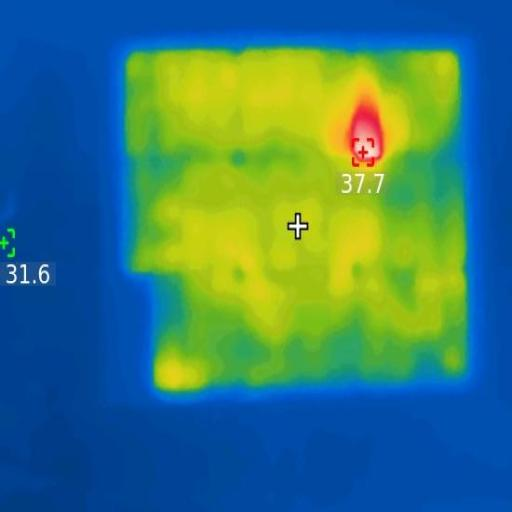hotspot: (339, 101, 393, 167)
